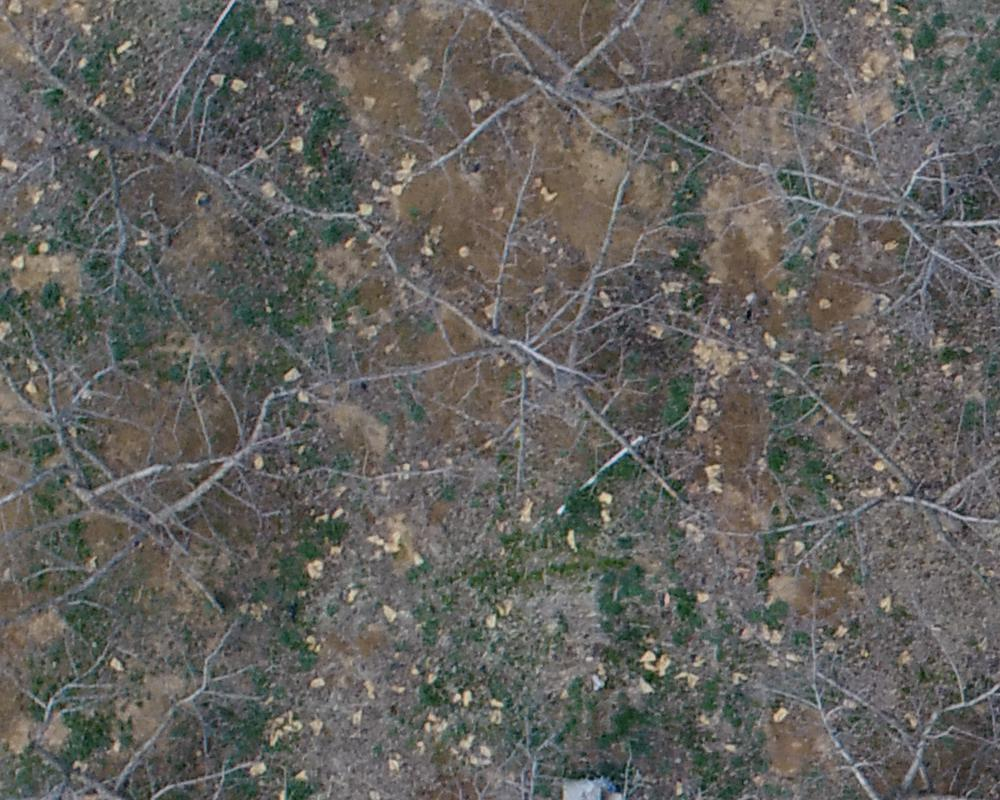apple: (334, 161, 711, 530), (294, 10, 799, 211), (10, 10, 320, 300), (10, 335, 286, 634), (706, 325, 990, 575), (732, 114, 990, 325), (10, 645, 264, 790)
